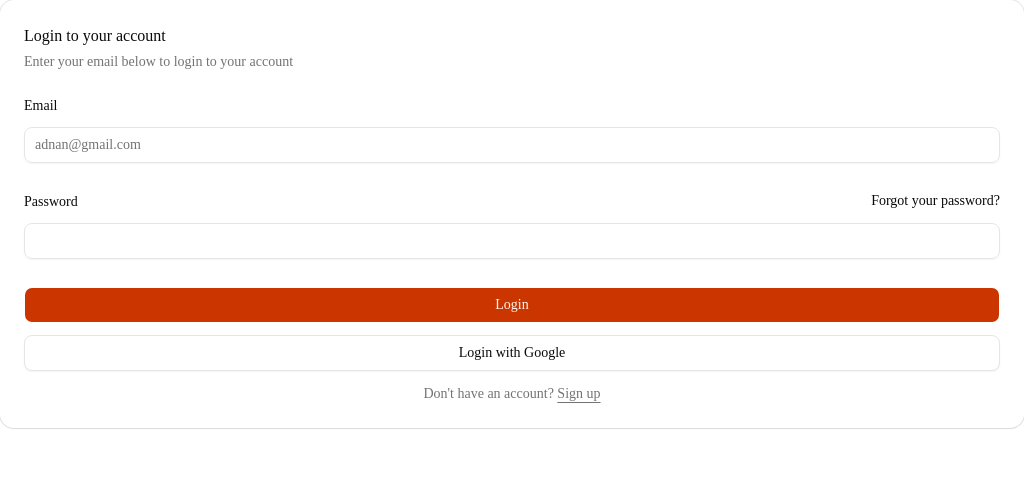
Test: Authentication Components › SignInForm › shows error message when sign-in fails
In the field labelled "Email": (512, 145) [24,127,1000,163], type "test@example.com"
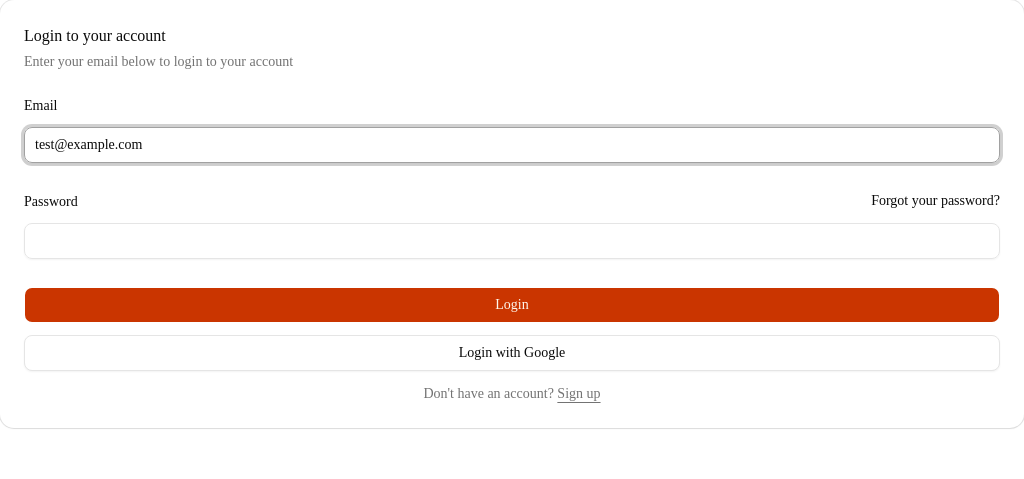
In the password field labelled "Password": (512, 241) [24,223,1000,259], type "wrongpassword"
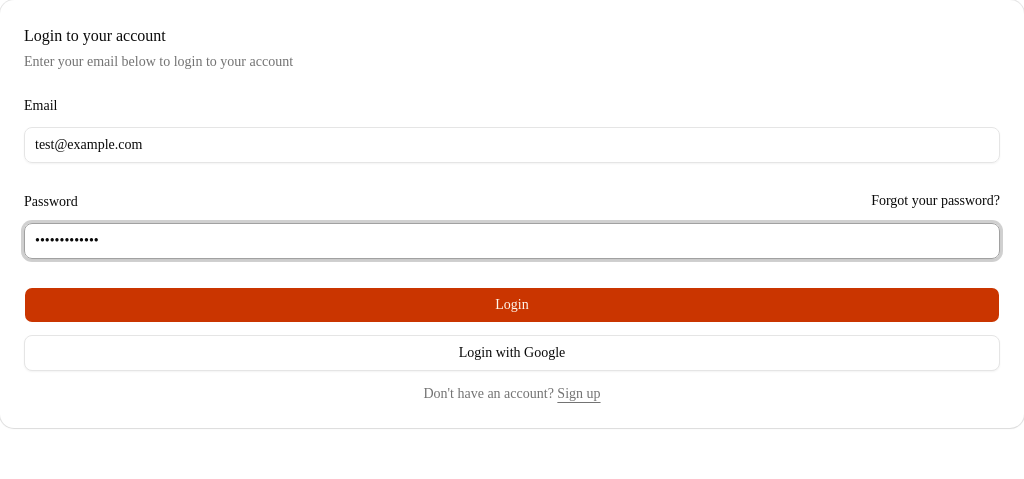
Click the button "Login": (512, 305) [24,287,1000,323]
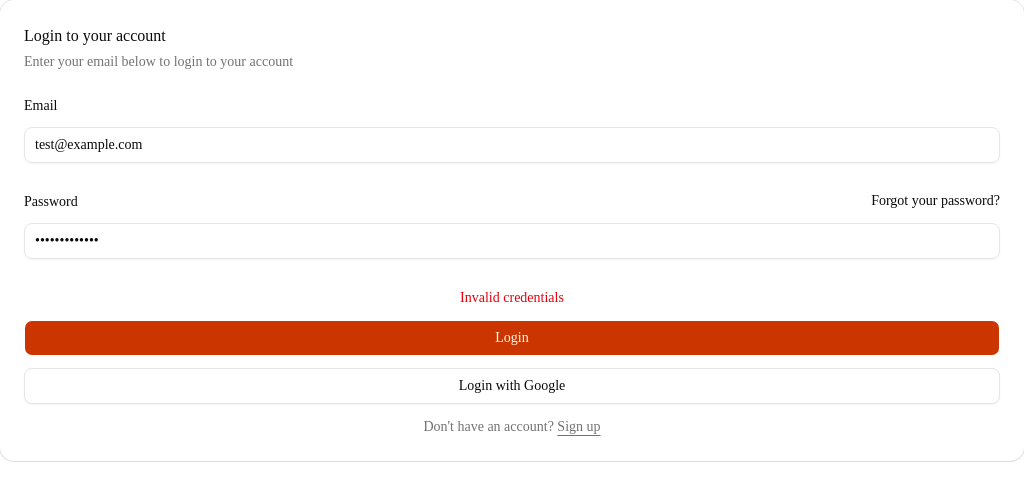
Check: the text "Invalid credentials" is shown, box [460,290,564,305]
